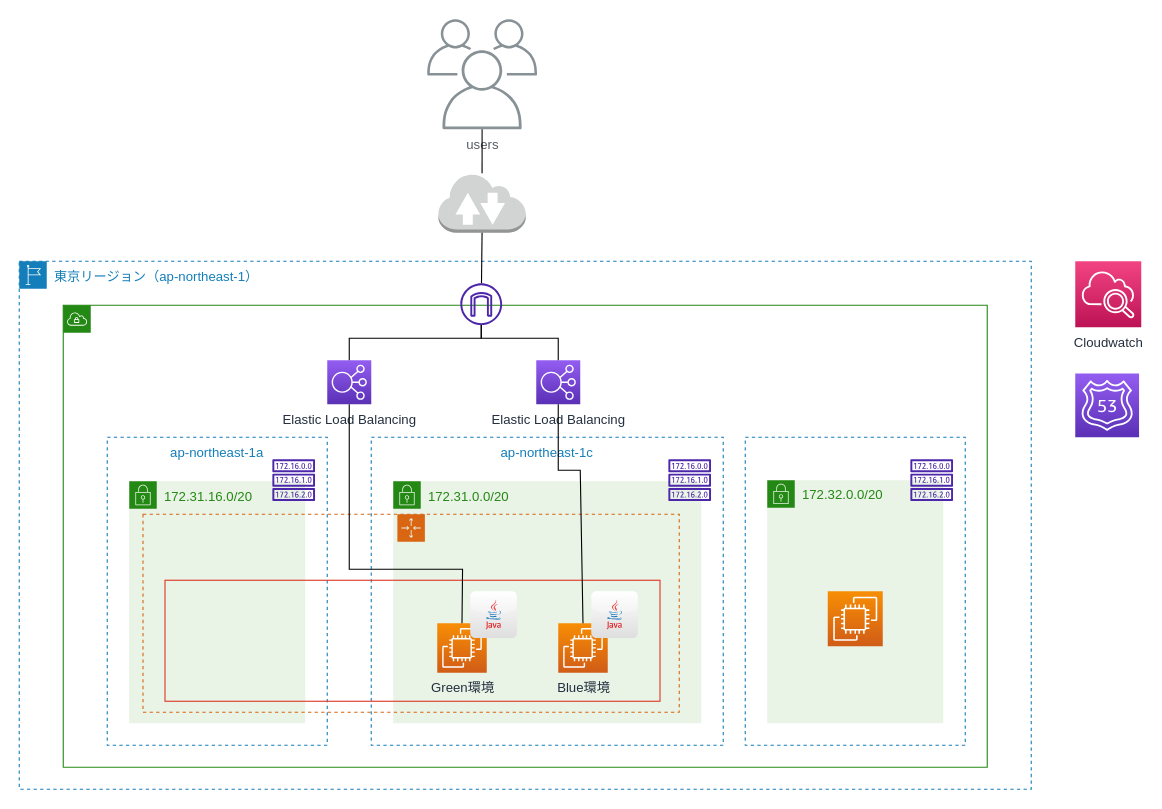
Some shapes in this 1162 by 809 pixel diagram are drawn without their labels. Here are the shapes that lost their labels. From the top down, the box of each, then its label:
(1074, 372, 1139, 437): Route 53
(62, 304, 987, 767): デフォルトVPC(172.31.0.0/16)
(744, 436, 965, 745): ap-northeast-1d
(142, 513, 679, 712): Auto Scaling group
(827, 590, 883, 646): Cloud9
(164, 579, 660, 701): Security group
